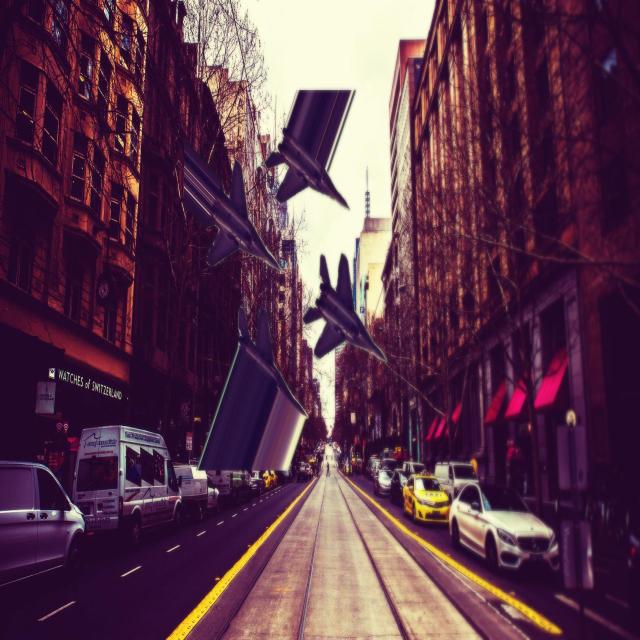airplane: (196, 304, 308, 473), (174, 136, 282, 273), (264, 87, 356, 210), (302, 252, 388, 367)
